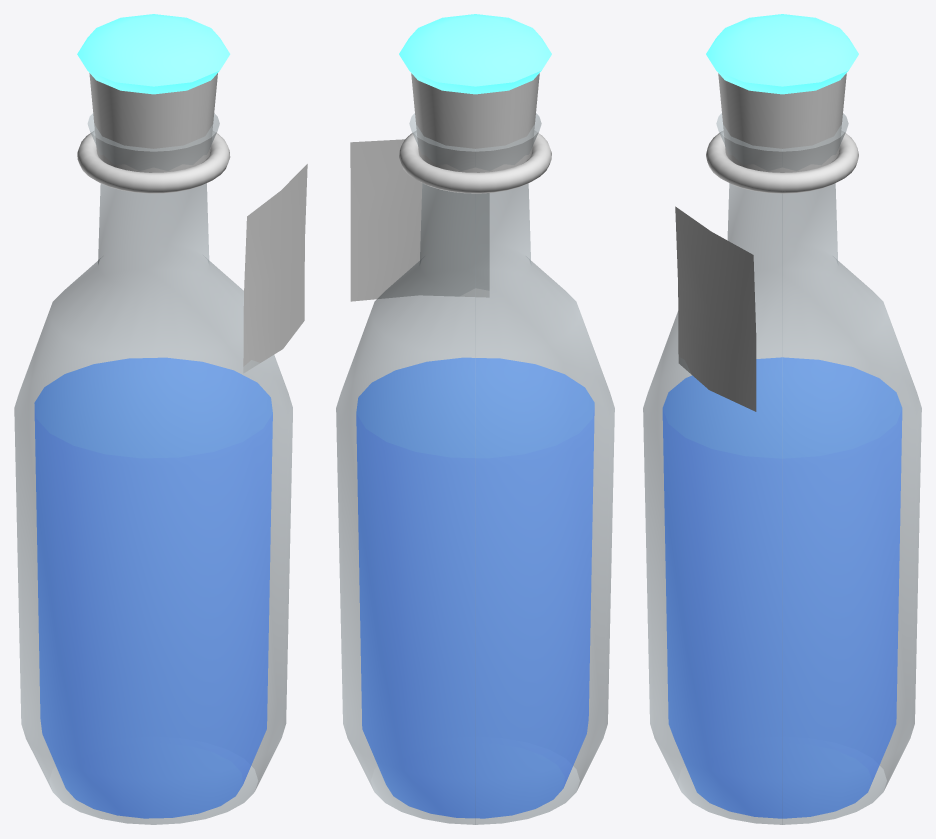
File: magicka_potion.glb
3 views of the same model, side by side, from view 1: azimuth 30°, elevation 25°; view 2: azimuth 150°, elevation 25°; view 3: azimuth 270°, elevation 25° (orthographic).
Visible parts, largest first — view 1: magicka_potion; view 2: magicka_potion; view 3: magicka_potion.
Part boxes in pixels (x1,y1,x2,y2): magicka_potion: (14, 14, 307, 824); magicka_potion: (336, 14, 614, 824); magicka_potion: (643, 14, 921, 824).
Size of the model in its own units: 0.0862 by 0.2397 by 0.08.
